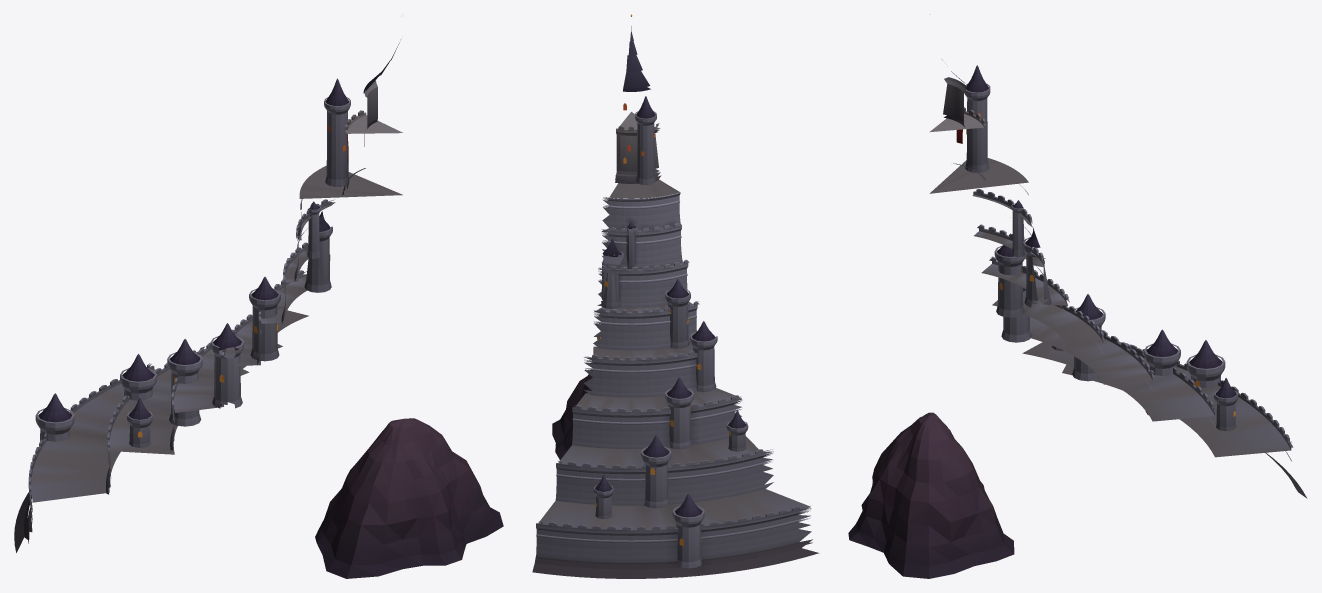
Rendered from fortress-s5-Bk6n1Cqe.glb.
3 renders of one model, left to right at view 1: azimuth 30°, elevation 25°; view 2: azimuth 150°, elevation 25°; view 3: azimuth 270°, elevation 25°, orthographic. The views are drawn at different scales.
Parts seen in each view (by area): view 1: sc_landmark_2, sc_crag_0; view 2: sc_landmark_2, sc_crag_0; view 3: sc_landmark_2, sc_crag_0.
Part boxes in pixels (<box>): sc_landmark_2: <box>14,14,403,552</box>; sc_crag_0: <box>315,418,503,578</box>; sc_landmark_2: <box>532,14,819,578</box>; sc_crag_0: <box>552,374,592,459</box>; sc_landmark_2: <box>929,14,1307,498</box>; sc_crag_0: <box>848,412,1014,578</box>.
Size of the model in its own units: 388 by 481 by 384.
